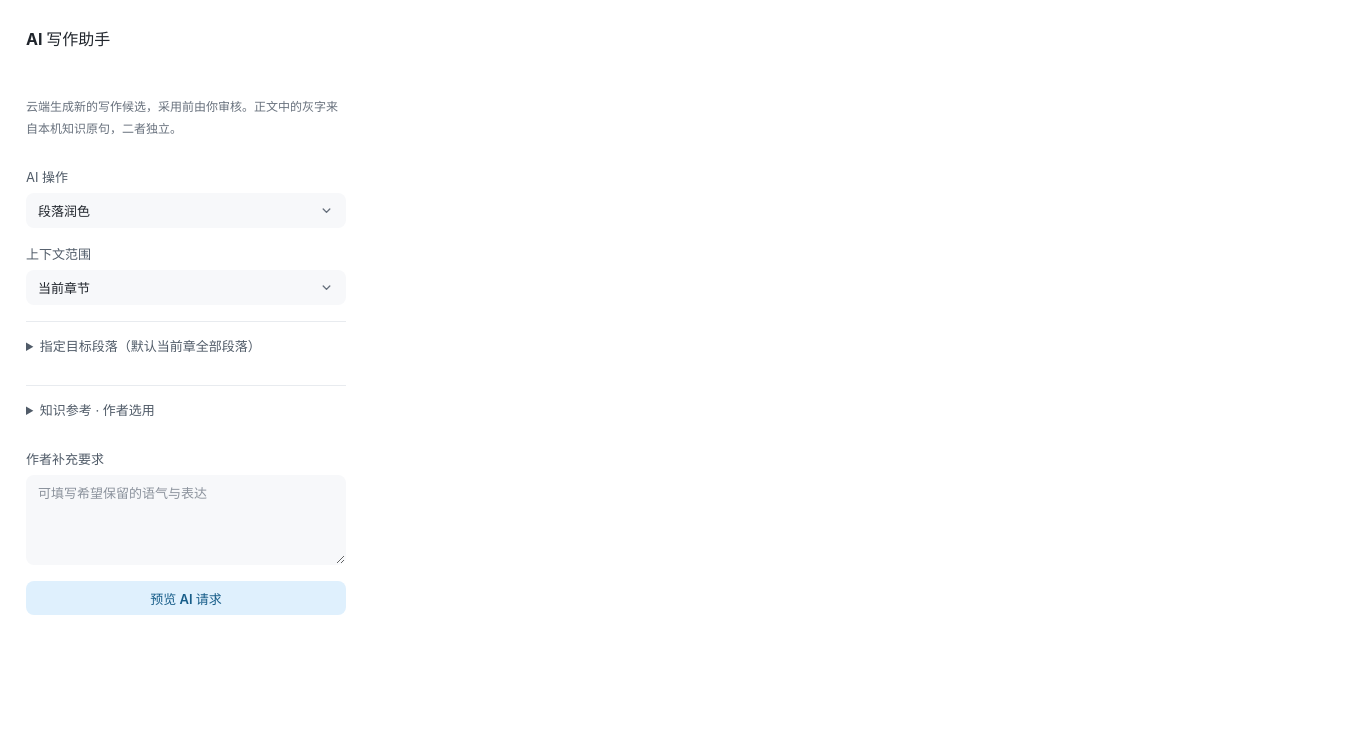
知识参考显示内容出处，作者逐条选用后才进入请求
Step 1. Click the heading "知识参考 · 作者选用" → [97, 410], box [40,402,155,418]
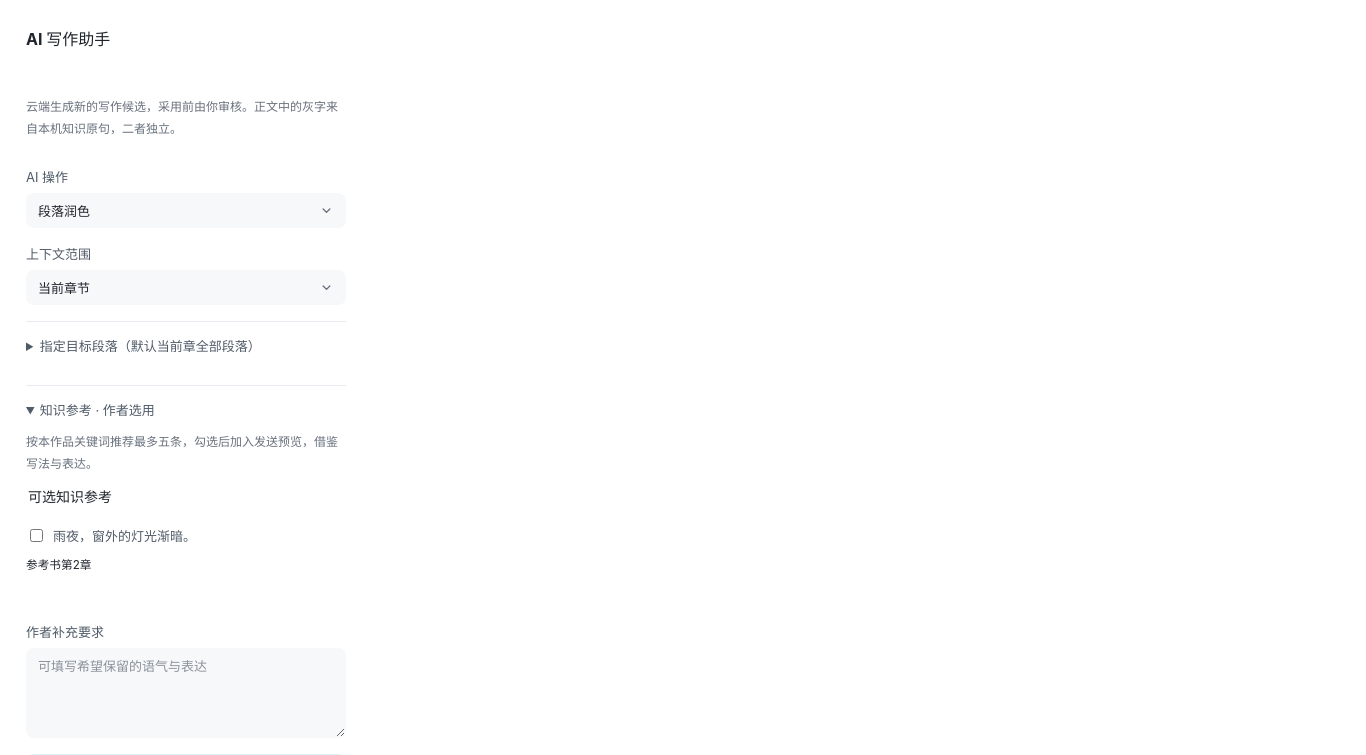
Expected: the checkbox labelled "雨夜，窗外的灯光渐暗。" is not checked
Expected: the text "参考书第2章" is shown, [26,558,91,572]
Step 2. Click the checkbox labelled "雨夜，窗外的灯光渐暗。" → [36, 536], box [30,529,43,542]
(page scrolled)
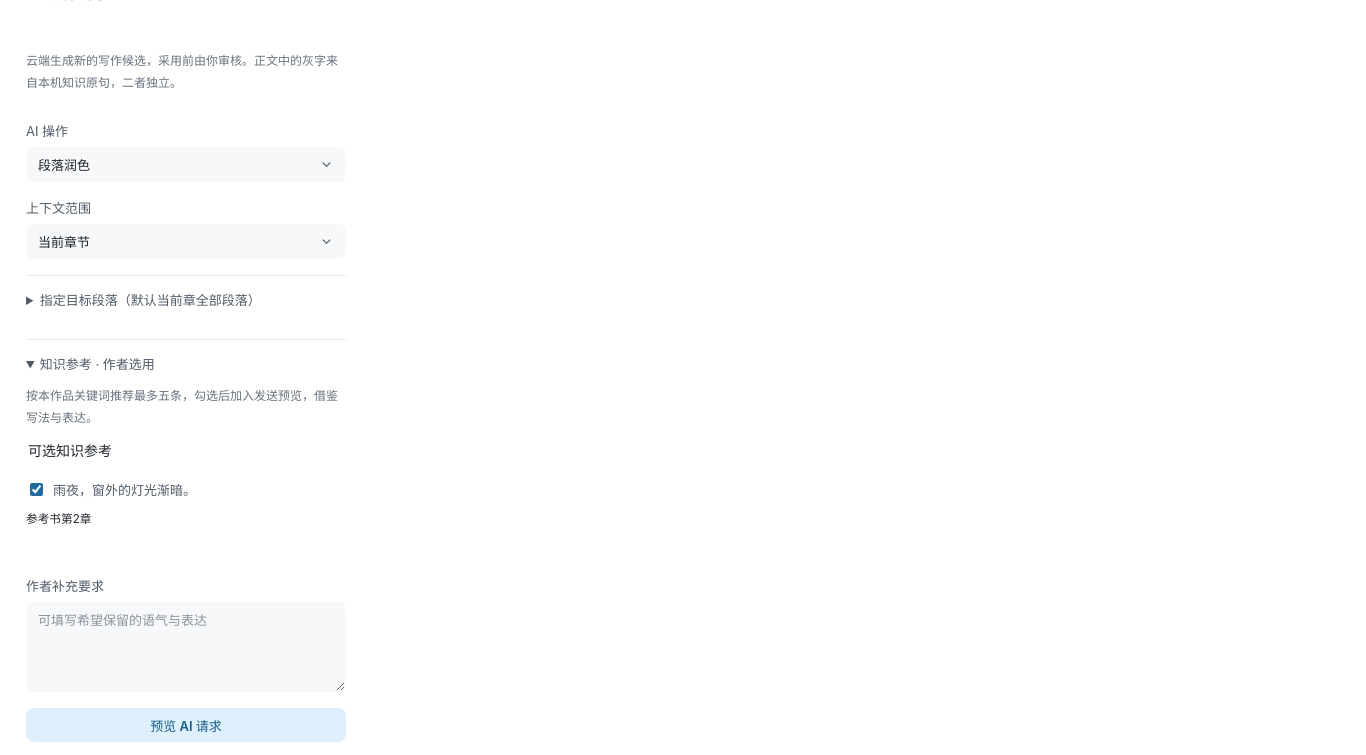
Step 3. Click the button "预览 AI 请求" → [186, 725], box [26,708,346,742]
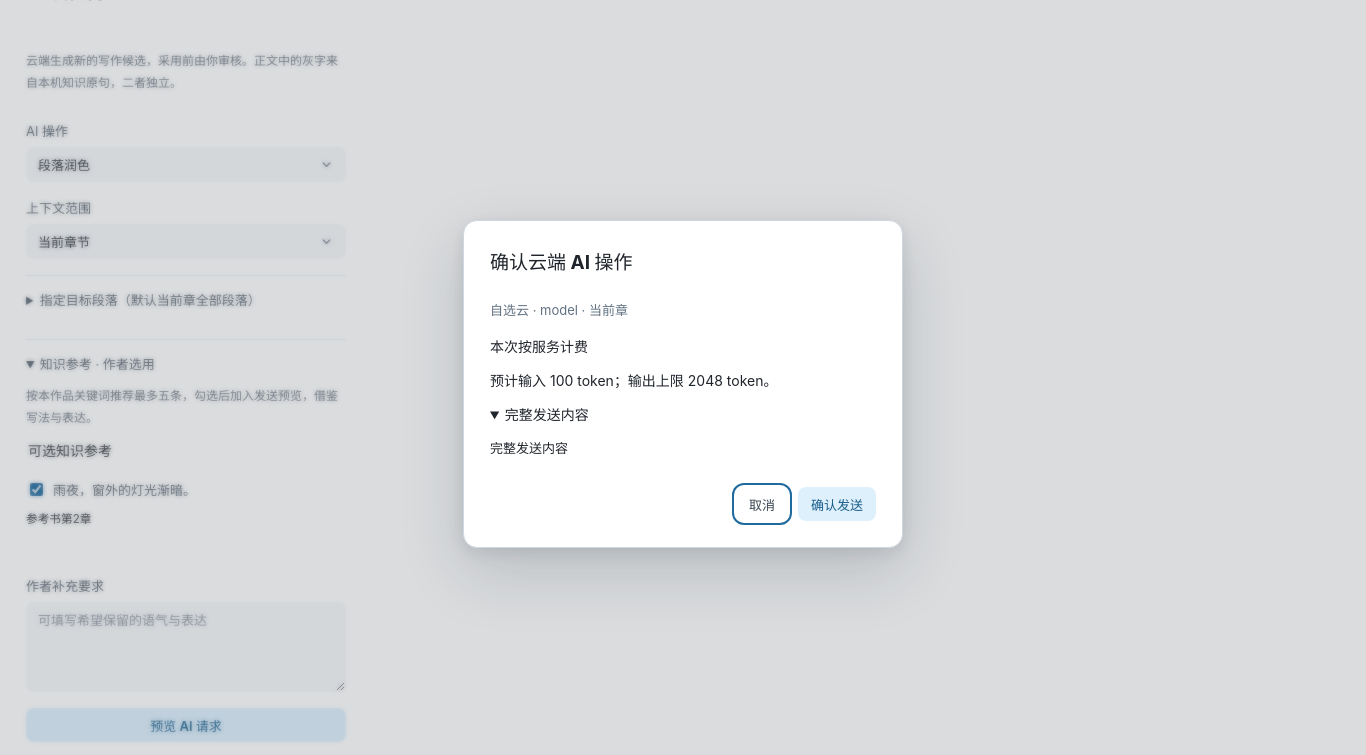
Expected: the dialog is shown, [463,220,903,548]
